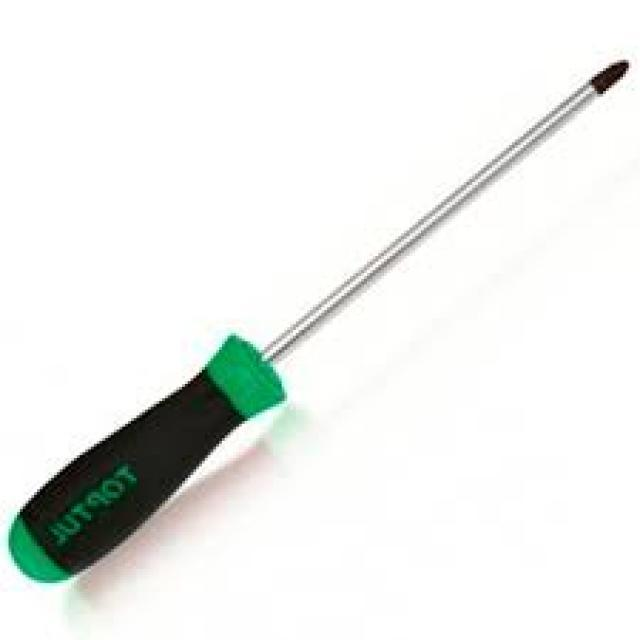screwdriver: (7, 59, 630, 590)
